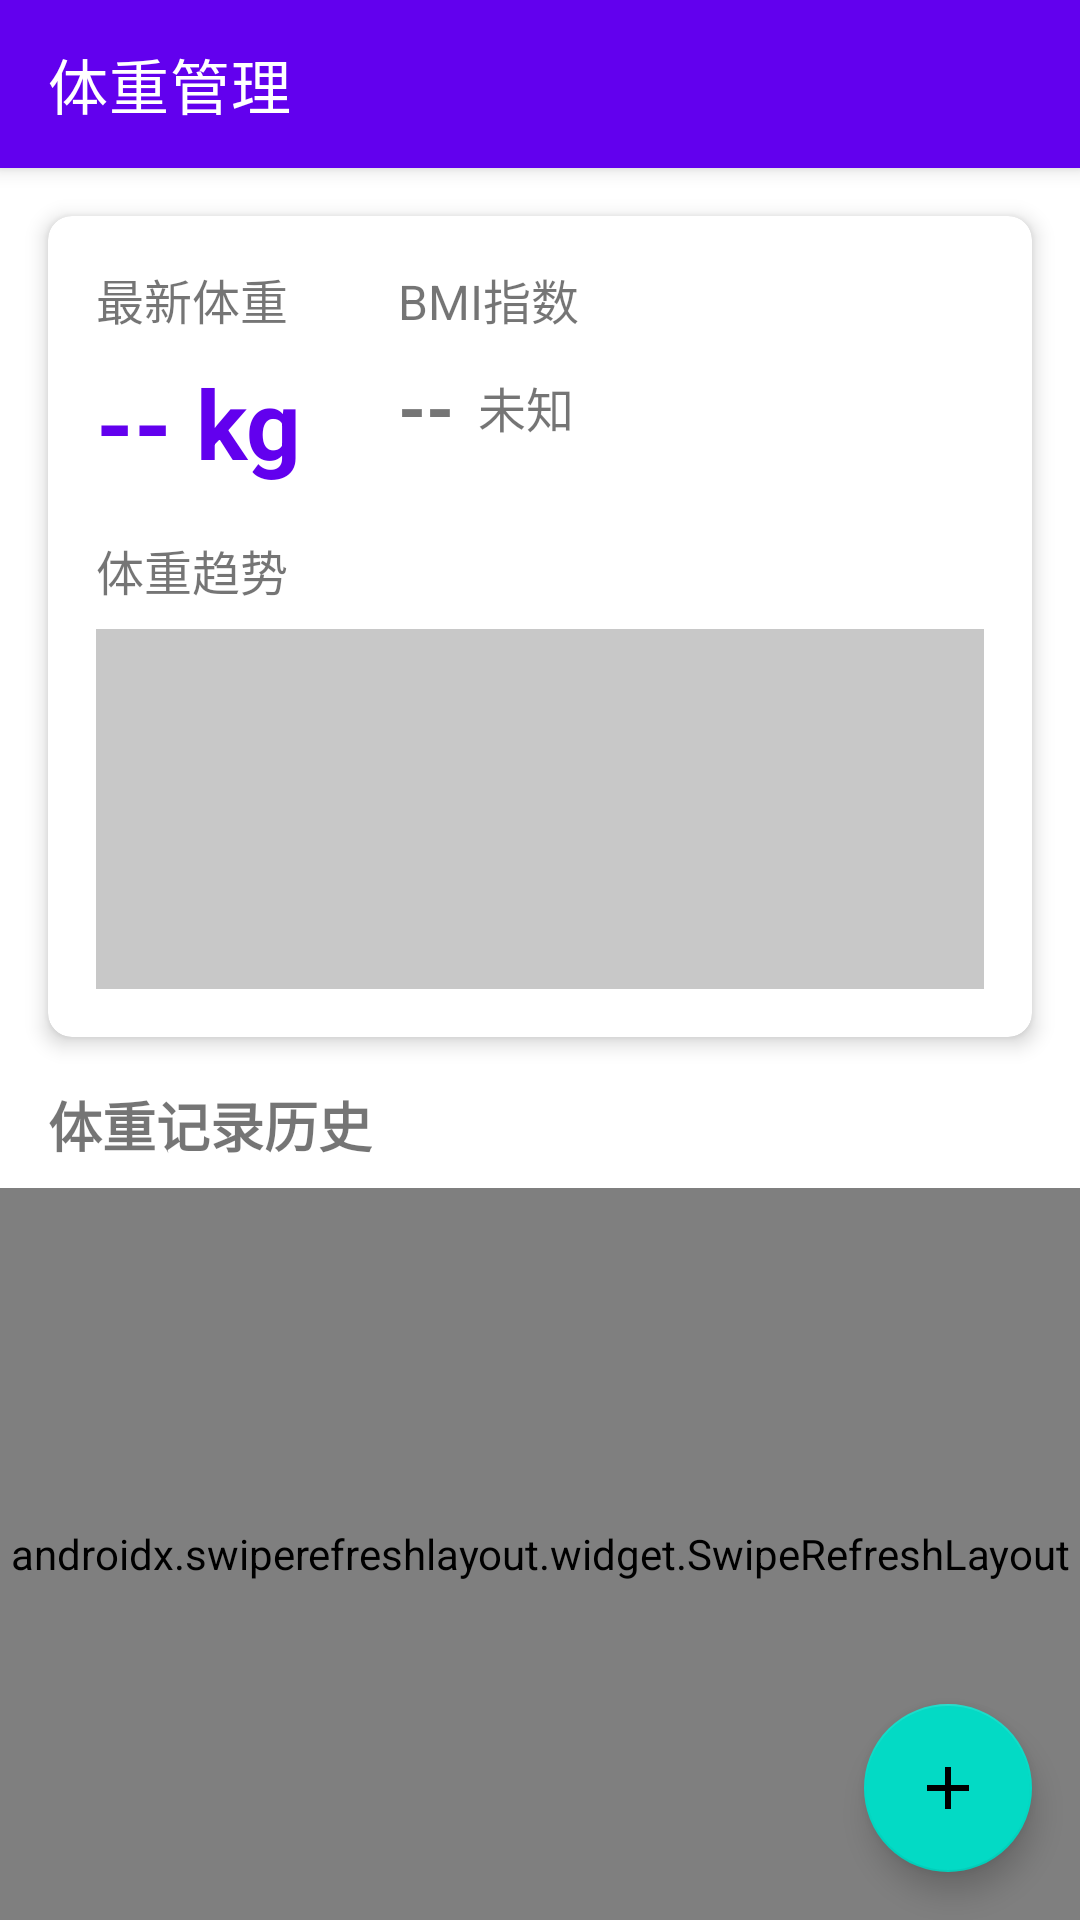

Where to tap for icons on this 1080px×1920px app screen, as [x,y]:
添加体重记录: [948,1788]
